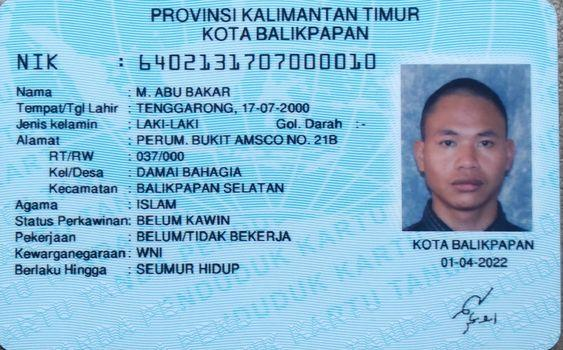ID-card: (2, 5, 560, 350)
